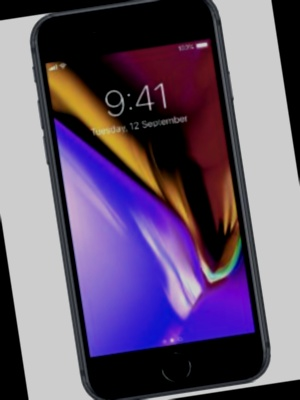iphone: (53, 1, 248, 396)
